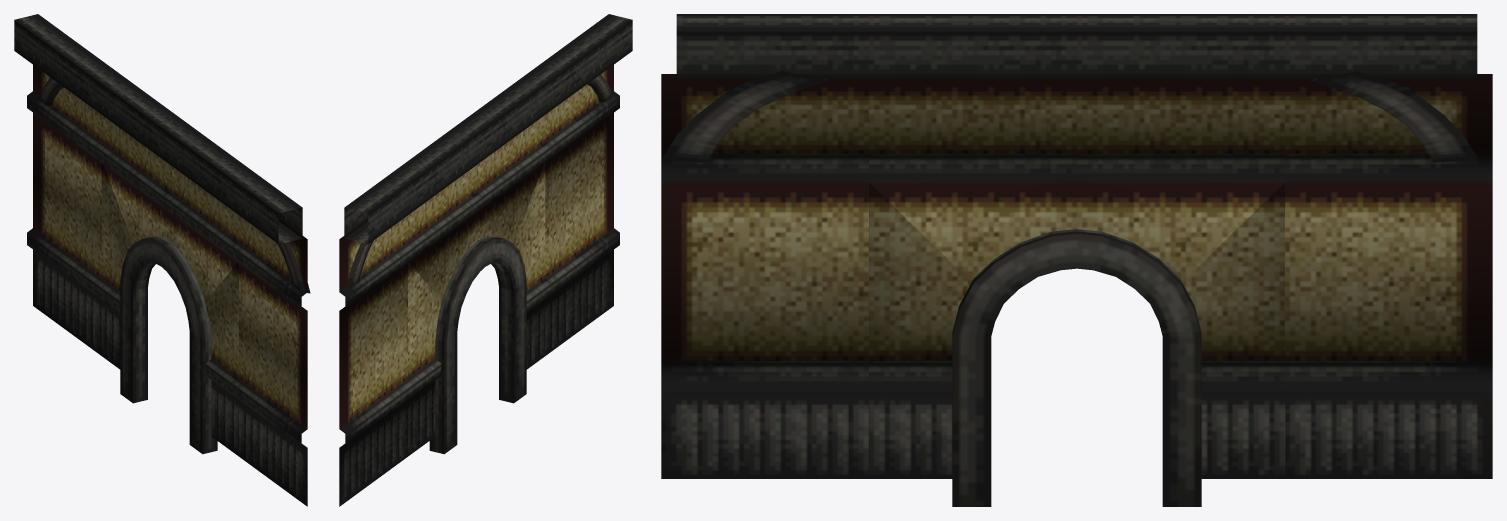
The model's file is EnvBdgMD_Forest_A_Indoor_House_E_Wall.FBX.
3 renders of one model, left to right at view 1: azimuth 30°, elevation 25°; view 2: azimuth 150°, elevation 25°; view 3: azimuth 270°, elevation 25°, orthographic. The views are drawn at different scales.
Visible parts, largest first — view 1: EnvBdgMD_Forest_A_Indoor_House_E_Wall; view 2: EnvBdgMD_Forest_A_Indoor_House_E_Wall; view 3: EnvBdgMD_Forest_A_Indoor_House_E_Wall.
Part boxes in pixels (x1,y1,x2,y2): EnvBdgMD_Forest_A_Indoor_House_E_Wall: (14, 14, 310, 506); EnvBdgMD_Forest_A_Indoor_House_E_Wall: (339, 14, 632, 506); EnvBdgMD_Forest_A_Indoor_House_E_Wall: (661, 14, 1492, 506).
Bounding box in the file's own units: 50 × 500 × 800.
